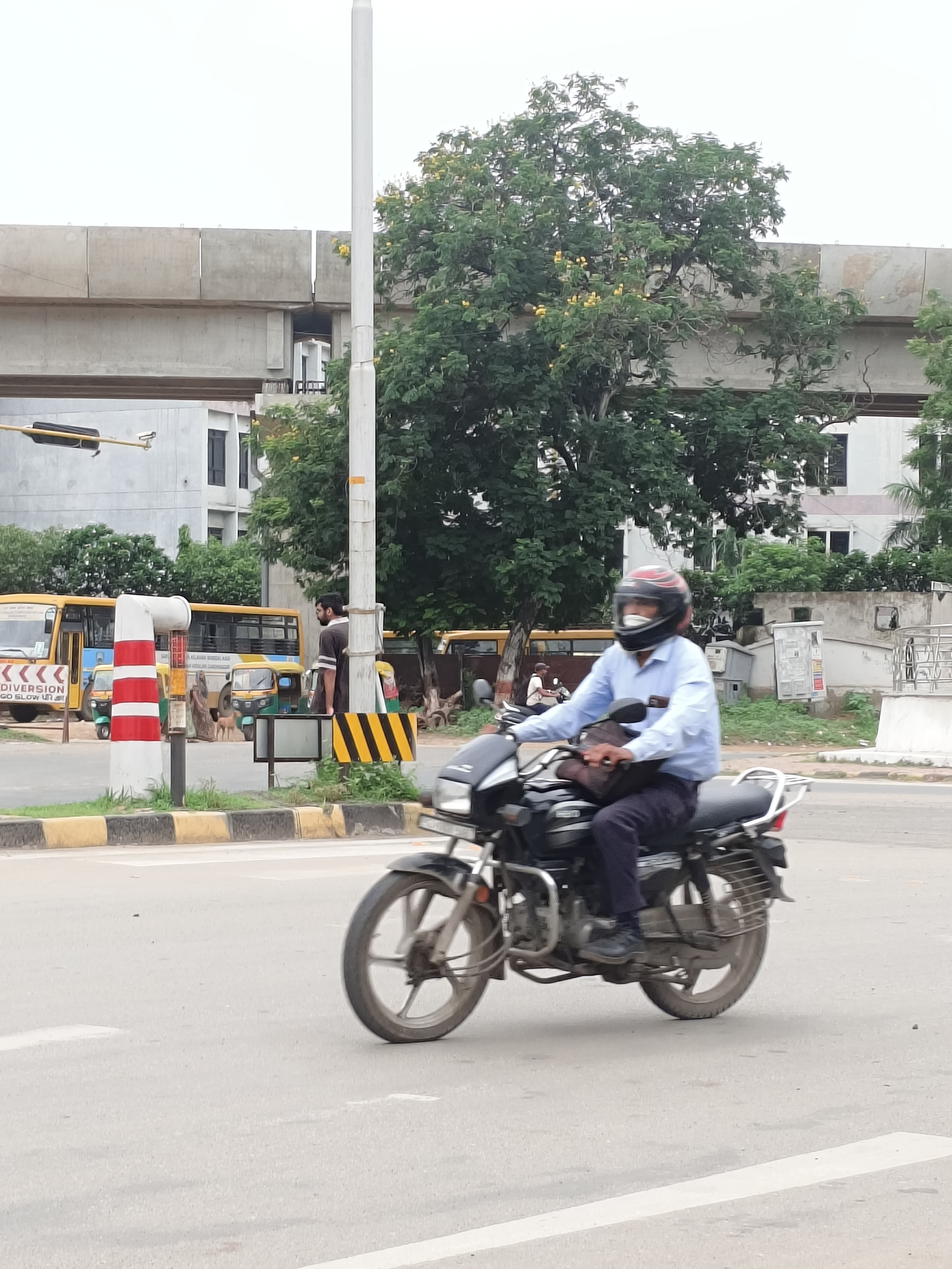BikeWithRider: (333, 560, 816, 1045)
Helmet: (607, 559, 704, 653)
